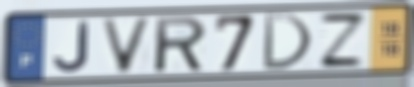7: (213, 13, 256, 74)
D: (260, 12, 316, 72)
J: (51, 19, 92, 75)
R: (153, 14, 209, 75)
V: (98, 16, 156, 75)
Z: (315, 12, 369, 68)
